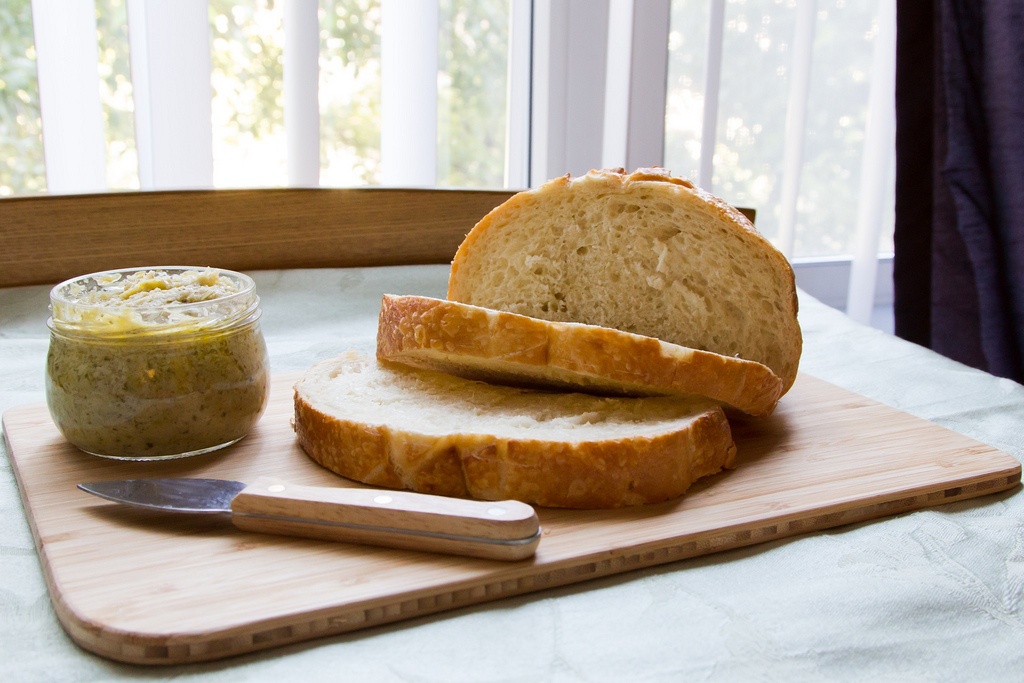slice of bread: (457, 173, 810, 371), (278, 360, 745, 509), (379, 297, 790, 405)
